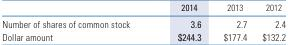table: (1, 1, 285, 41)
table column: (1, 1, 152, 41), (152, 1, 211, 41), (211, 1, 253, 41), (253, 1, 285, 41)
table column header: (1, 1, 285, 15)
table row: (1, 1, 285, 15), (1, 15, 285, 29), (1, 29, 285, 41)
